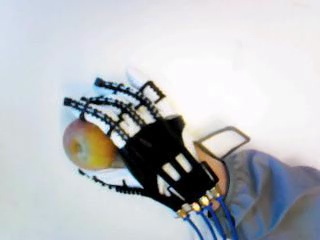apple: (61, 115, 117, 169)
hand: (62, 76, 218, 216)
